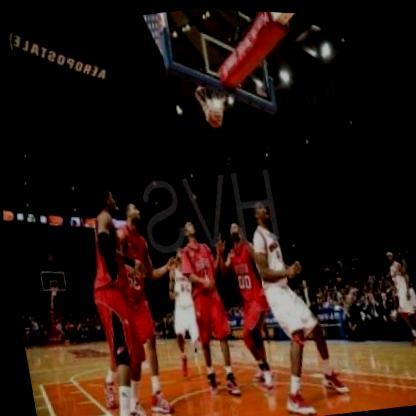basketball: (198, 101, 230, 130)
